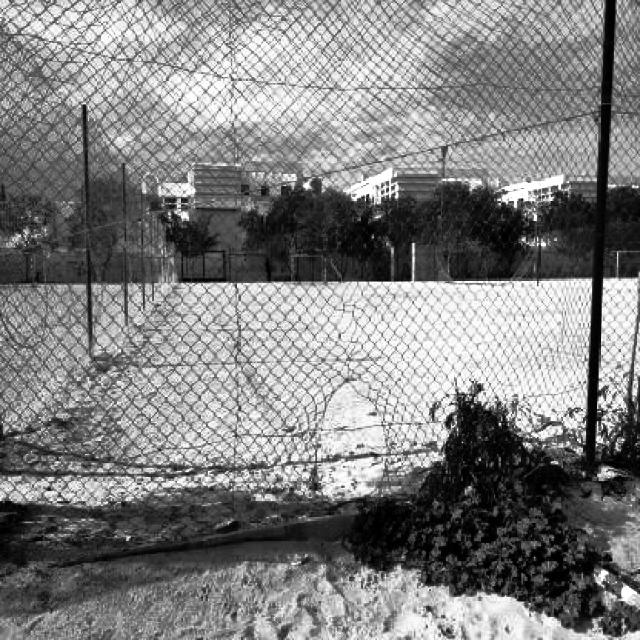anomaly-fence: (286, 323, 414, 522)
